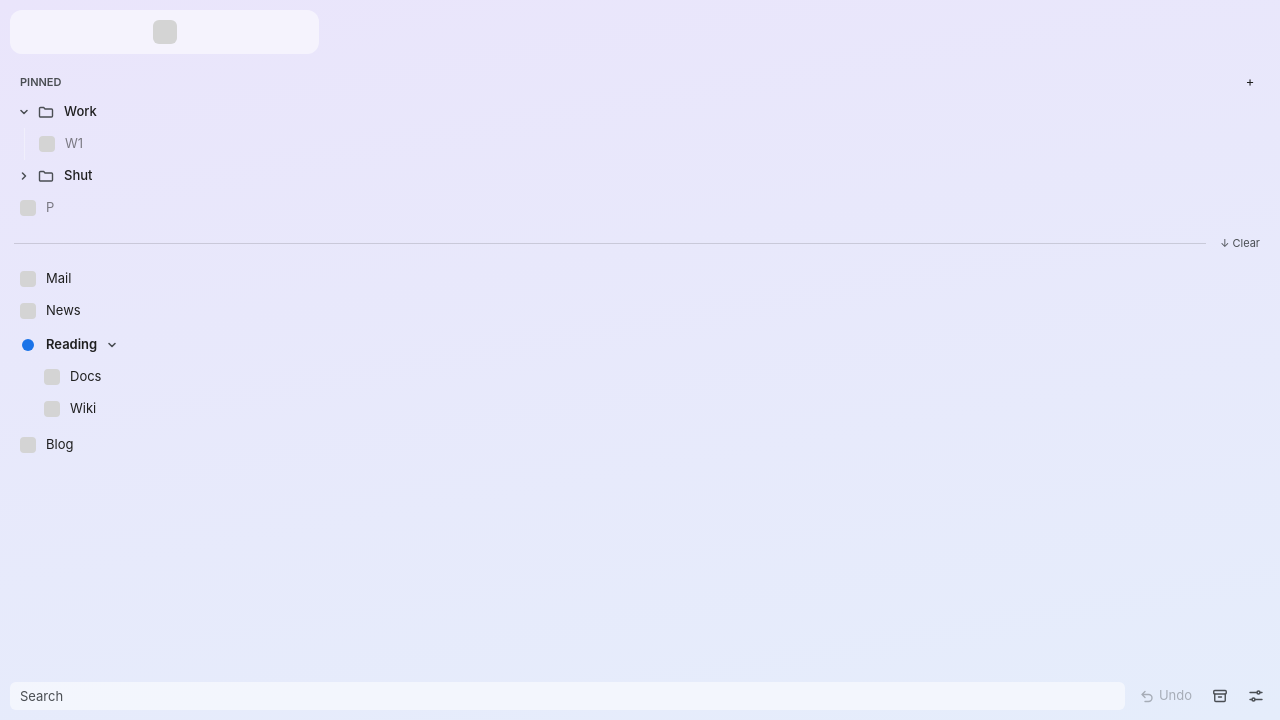
Test: ending the selection › keeps the selection when Escape closes a menu
Click the button "Mail".
click(28, 279)  # box [10,263,1242,295]
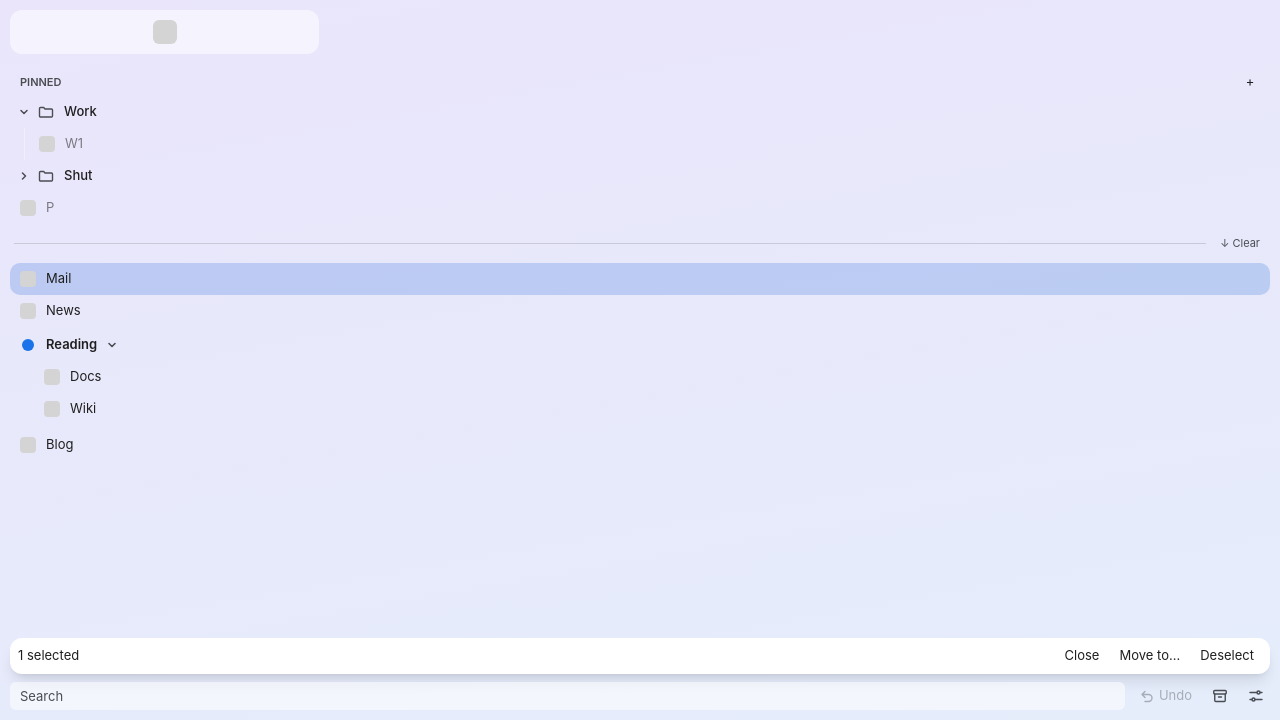
Right-click the button "Mail".
right_click(28, 279)  # box [10,263,1242,295]
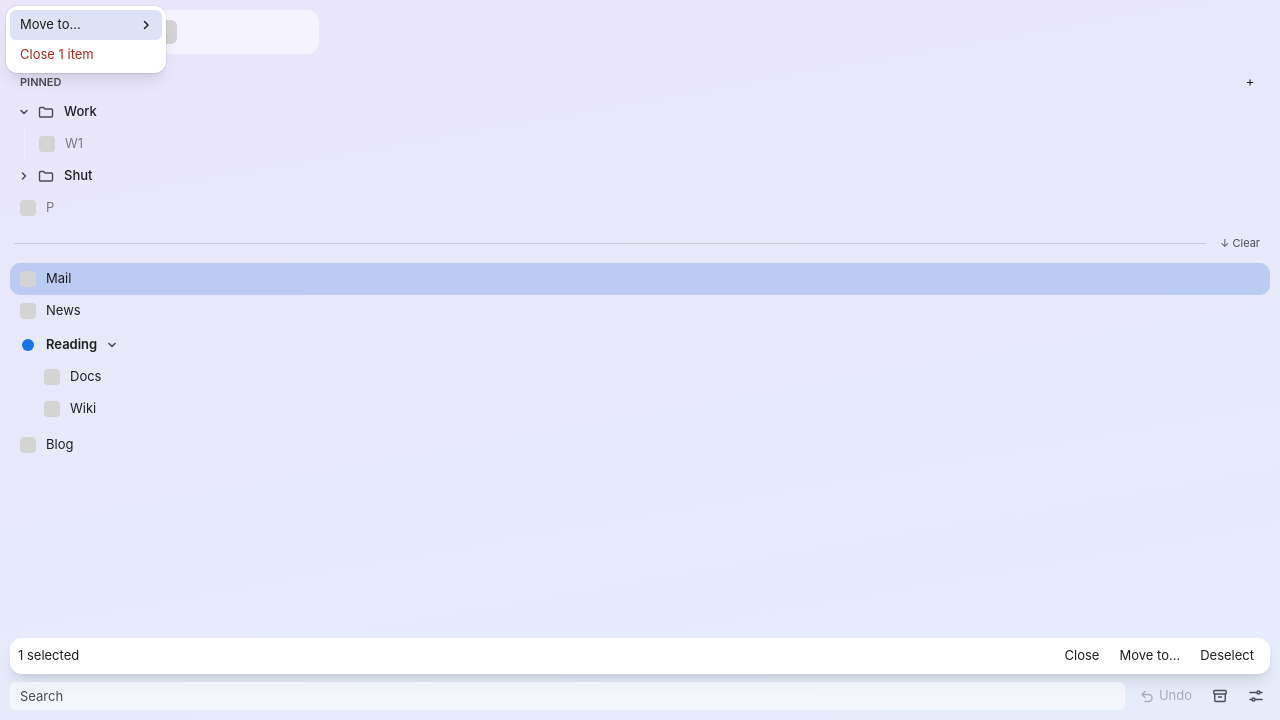
Expected: the menu is shown, [6,6,166,73]
Press Escape
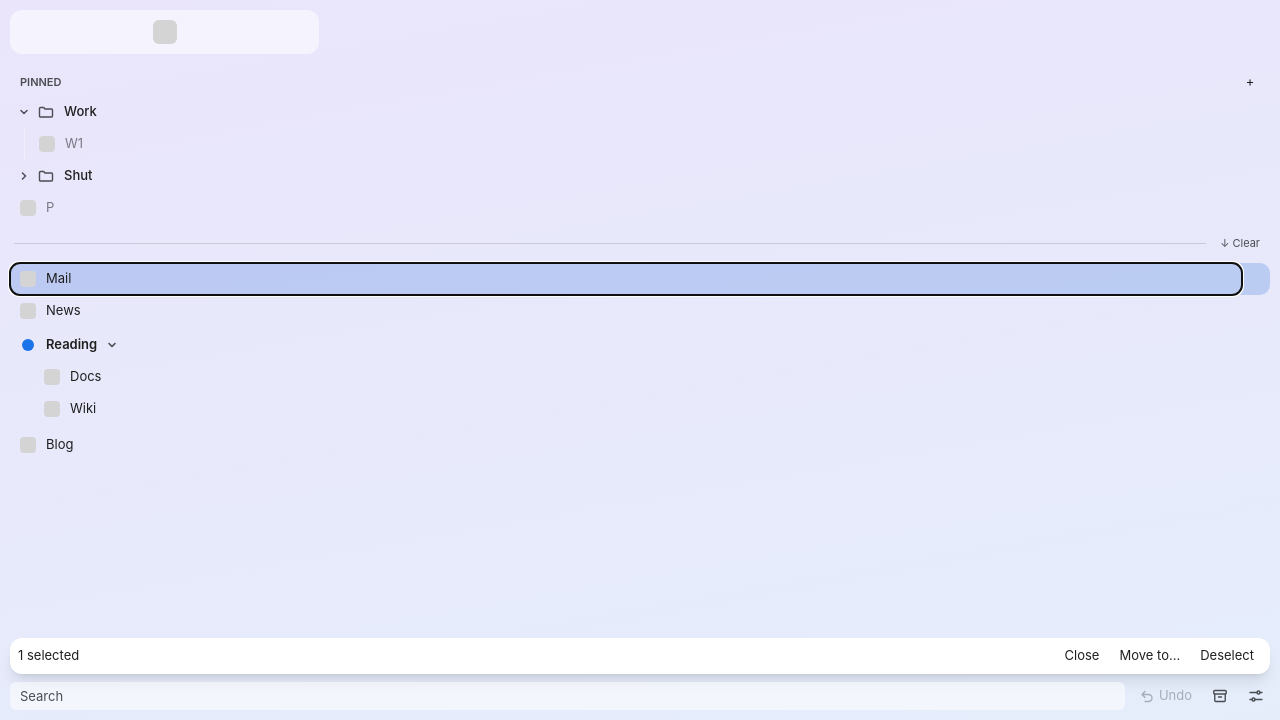
Expected: the menu is gone
